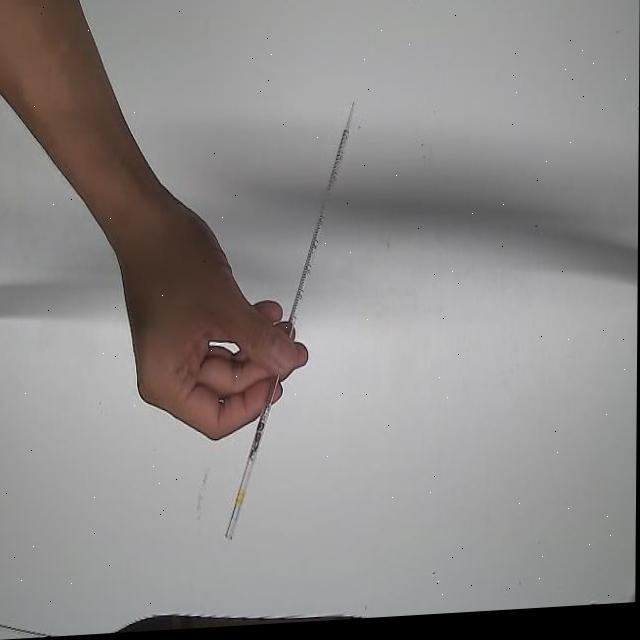Serelogical Pipet 1 mL: (221, 100, 361, 549)
